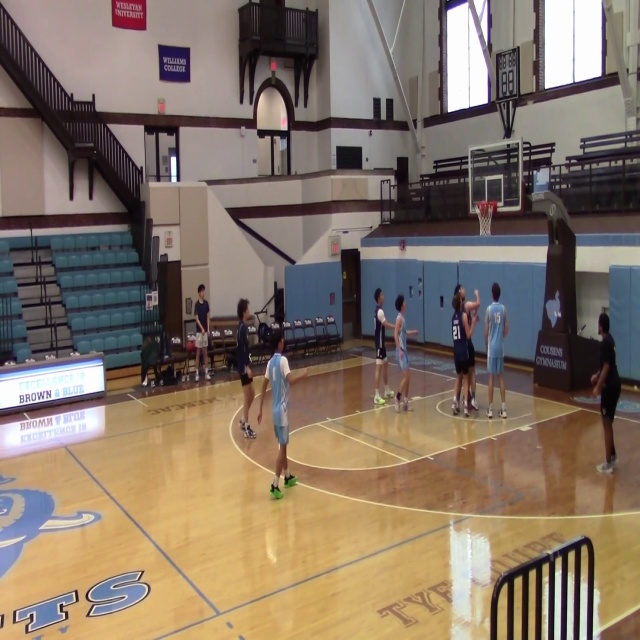Basketball: (464, 301, 478, 314), (590, 372, 600, 385), (185, 340, 195, 351)
